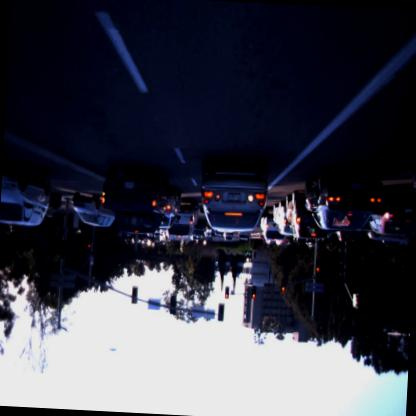trafficlight: (224, 284, 230, 302), (315, 256, 321, 274), (280, 277, 286, 293), (87, 233, 92, 249), (252, 285, 256, 299)
